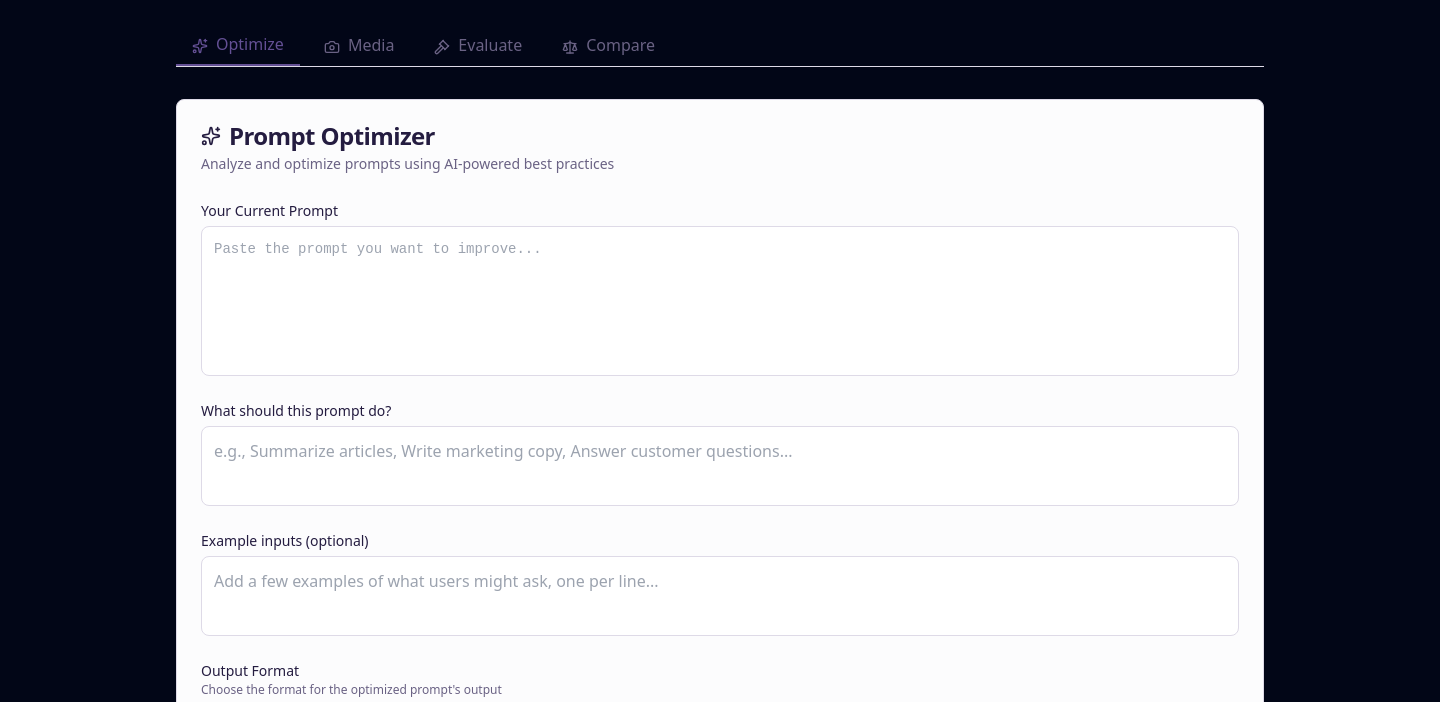
Agents Page - Optimize Prompt Button › button is enabled when both prompt and task fields have content
The image size is (1440, 702).
Step 1. Type "You are a helpful assistant." into the text box with placeholder "Paste the prompt you want to improve..." → (720, 301), box [201,226,1239,376]
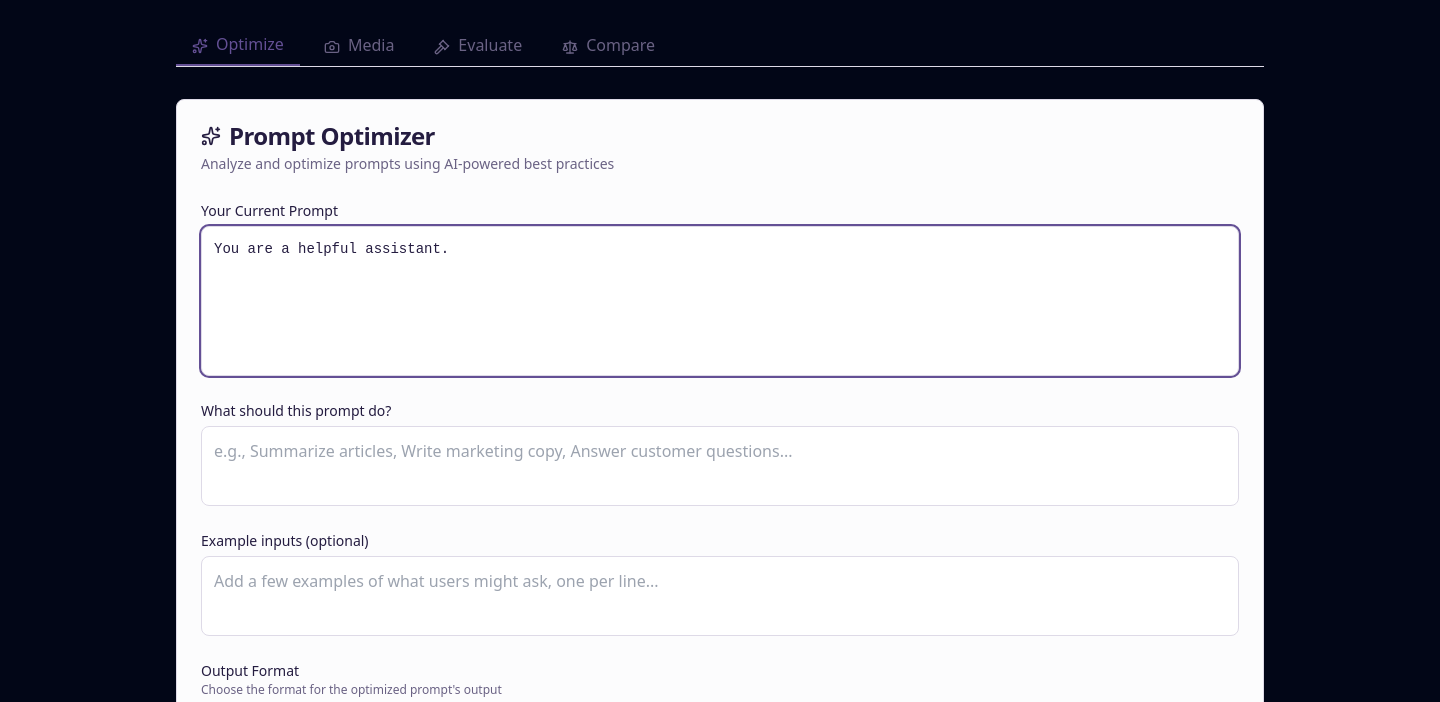
Step 2. Type "Answer user questions about Python" into the text box with placeholder "Summarize articles" → (720, 466), box [201,426,1239,506]
(page scrolled)
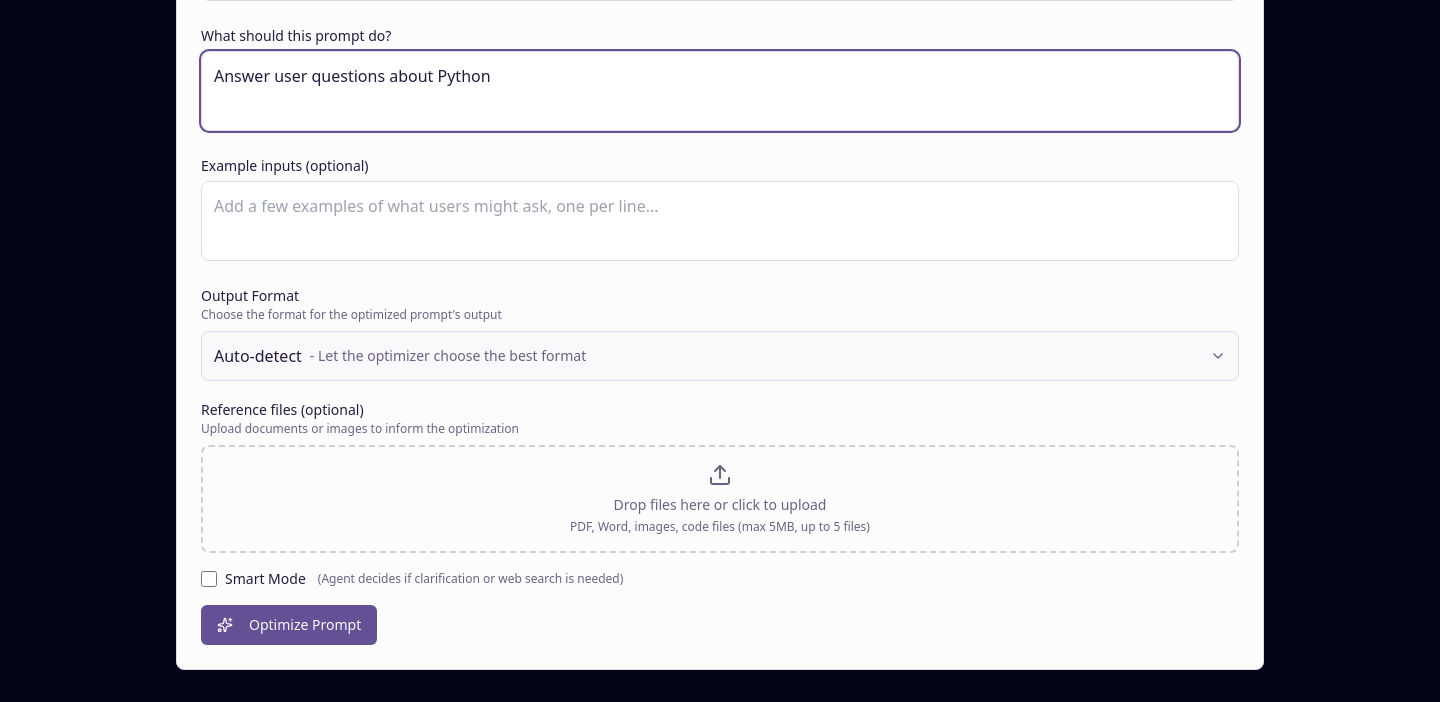
Check: the button "Optimize Prompt" is enabled, box [201,605,377,645]
